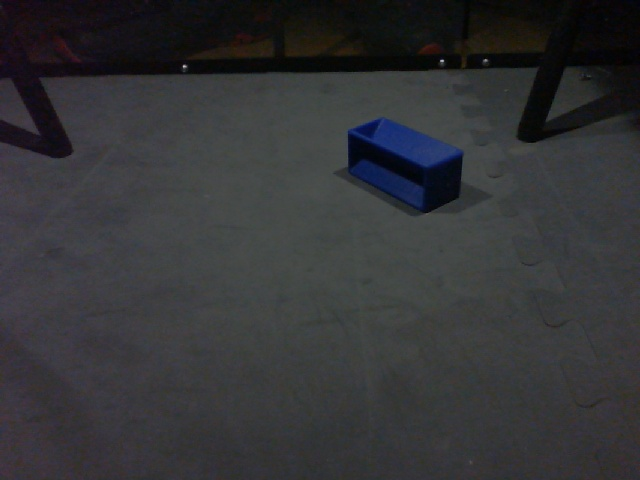BlueSample: (345, 112, 467, 217)
